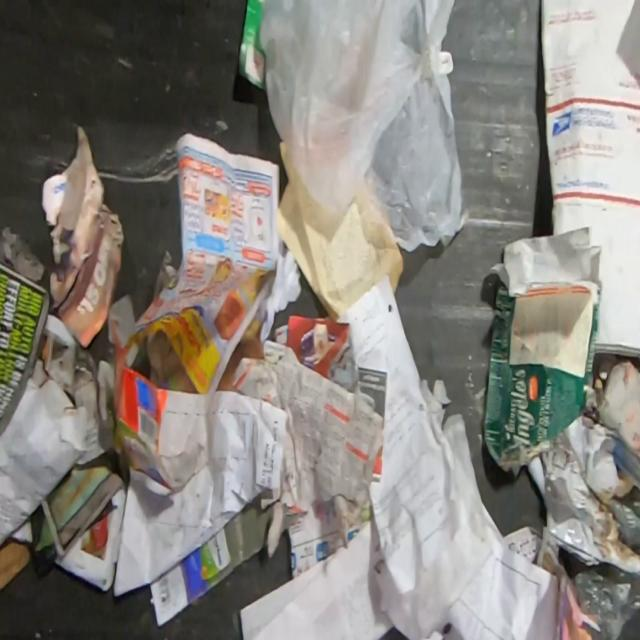cardboard: (539, 0, 640, 360), (482, 224, 607, 480)
soft_plastic: (260, 0, 470, 254)
